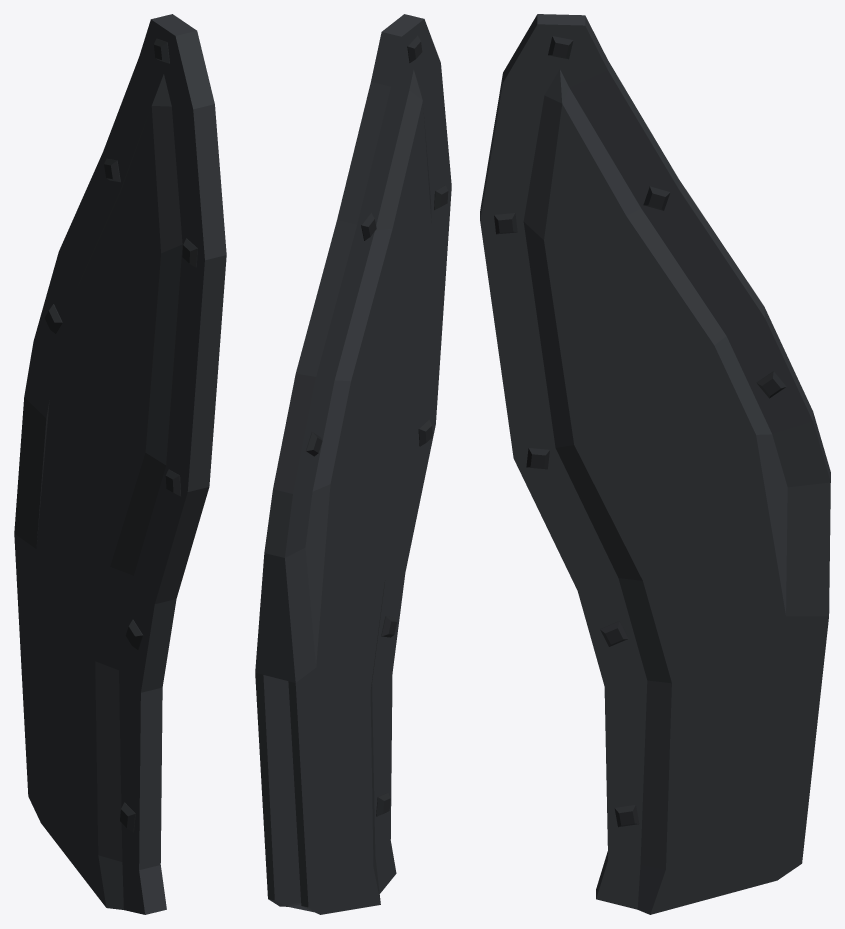
Rendered from SM_Wep_Knife_Kukri_01_Sheath.fbx.
3 views of the same model, side by side, from view 1: azimuth 30°, elevation 25°; view 2: azimuth 150°, elevation 25°; view 3: azimuth 270°, elevation 25° (orthographic). The views are drawn at different scales.
Visible parts, largest first — view 1: SM_Wep_Knife_Kukri_01_Sheath; view 2: SM_Wep_Knife_Kukri_01_Sheath; view 3: SM_Wep_Knife_Kukri_01_Sheath.
Boxes of the visible parts, x1=… form: SM_Wep_Knife_Kukri_01_Sheath: x1=14, y1=14, x2=226, y2=914; SM_Wep_Knife_Kukri_01_Sheath: x1=255, y1=14, x2=451, y2=914; SM_Wep_Knife_Kukri_01_Sheath: x1=480, y1=14, x2=830, y2=914.
Size of the model in its own units: 2.39 by 47.63 by 17.1.
